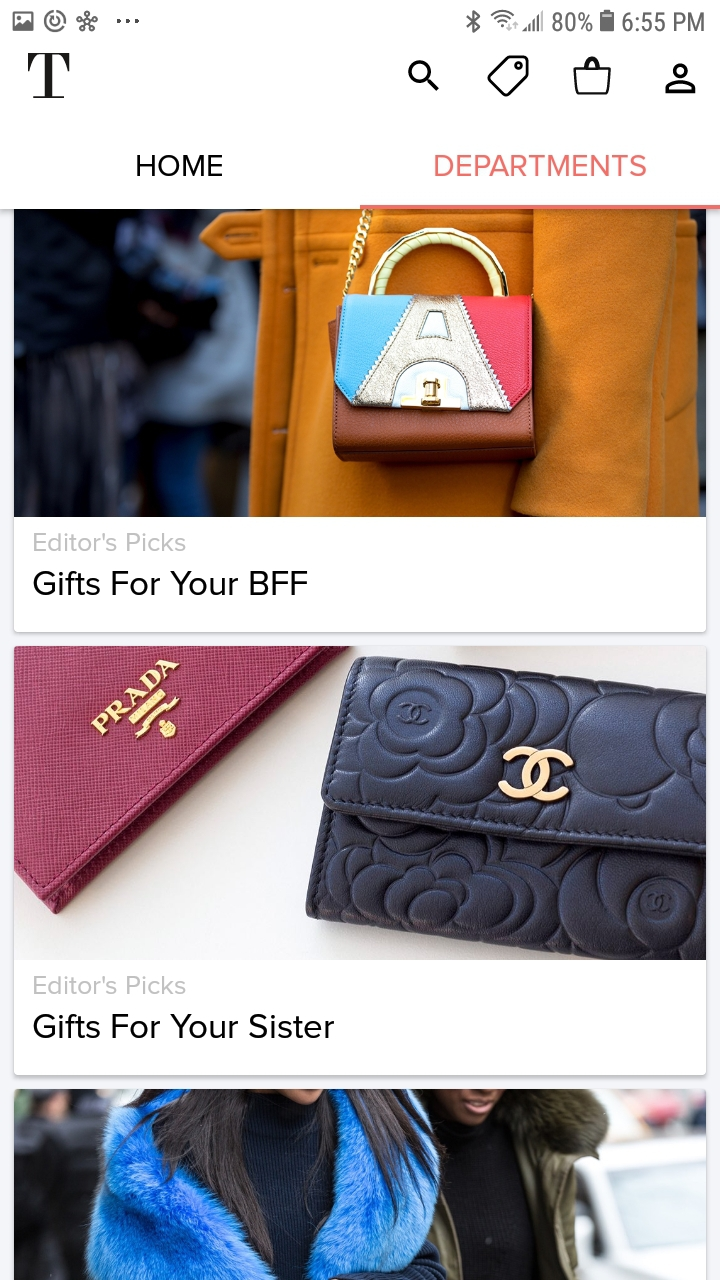Icon: (487, 56, 530, 99), (573, 57, 612, 97), (408, 61, 440, 93), (665, 63, 697, 95)
Image: (14, 646, 707, 960), (14, 210, 706, 518), (14, 1088, 706, 1280)
Text: (34, 1013, 335, 1039), (33, 570, 308, 596), (435, 155, 647, 178), (34, 532, 187, 552), (35, 975, 187, 995), (28, 53, 71, 100), (136, 155, 223, 178)
UpperTaskBar: (1, 1, 720, 35)
